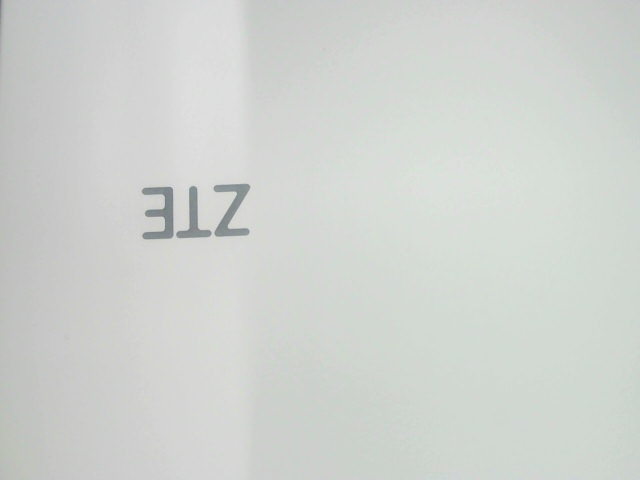AO_ZTESmall: (126, 169, 269, 258)
